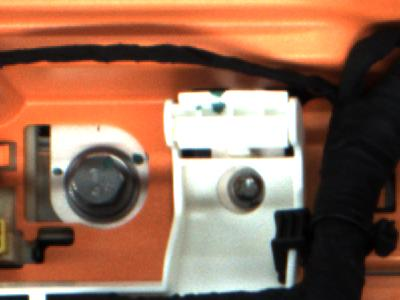nut_b: (55, 141, 143, 218)
